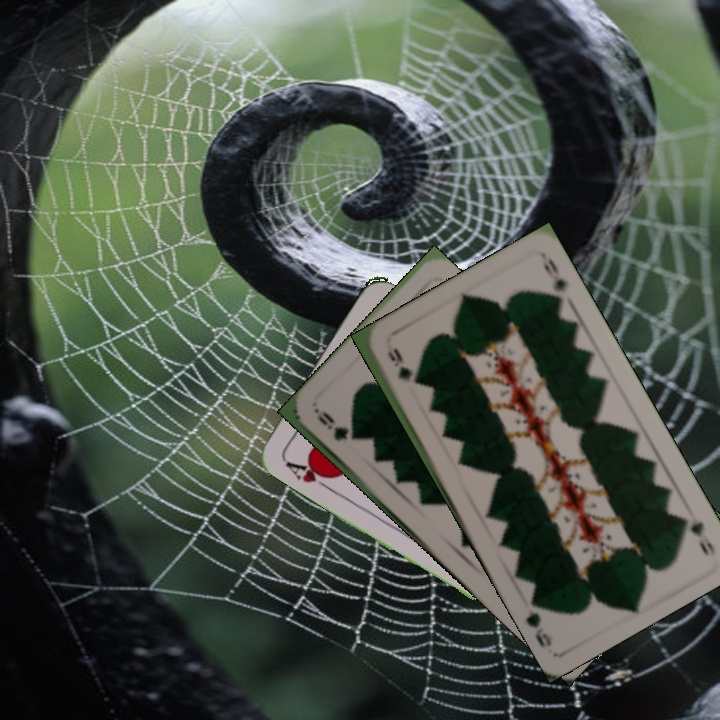G9: (676, 510, 719, 558), (312, 406, 359, 445), (383, 344, 413, 384)
HA: (281, 457, 337, 494)
